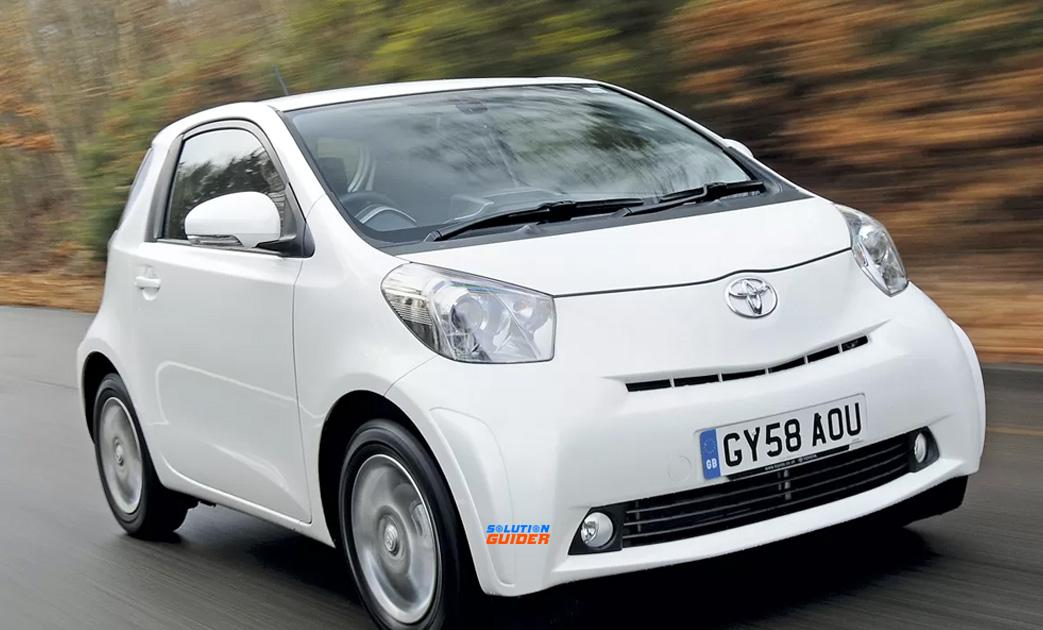windshield: (269, 80, 800, 263)
